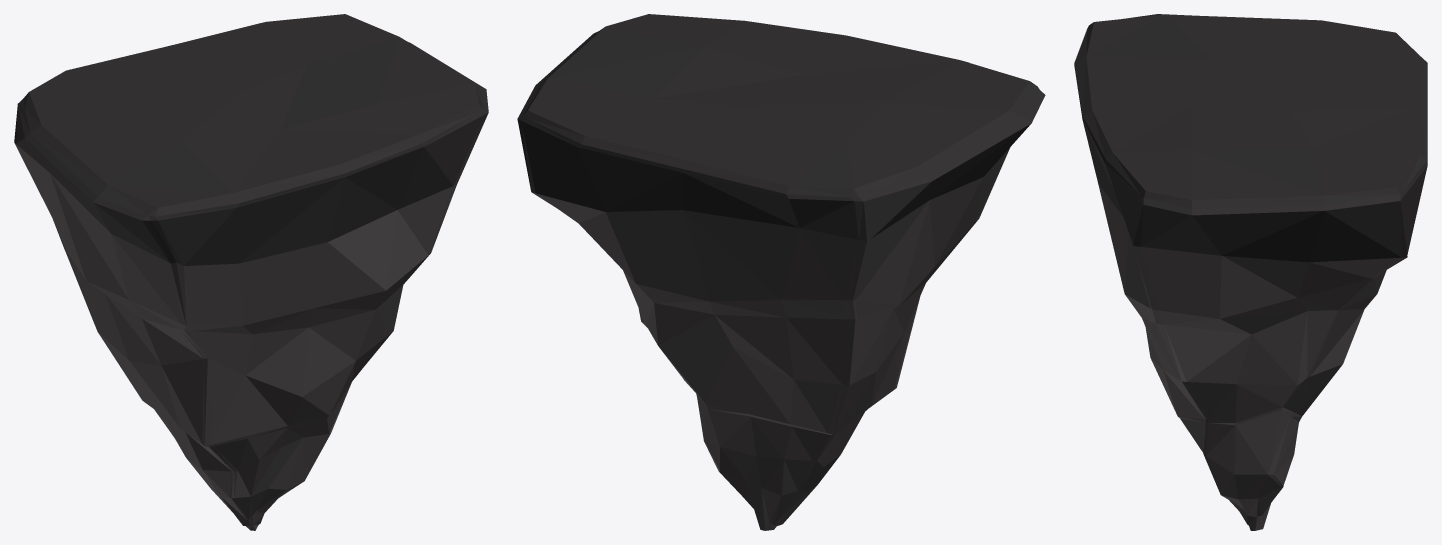
Rendered from Terrain_volcan_vf.FBX.
3 views of the same model, side by side, from view 1: azimuth 30°, elevation 25°; view 2: azimuth 150°, elevation 25°; view 3: azimuth 270°, elevation 25° (orthographic). The views are drawn at different scales.
Visible parts, largest first — view 1: Box001; view 2: Box001; view 3: Box001.
Part boxes in pixels (x1=…): Box001: x1=14, y1=14, x2=488, y2=530; Box001: x1=517, y1=14, x2=1045, y2=530; Box001: x1=1074, y1=14, x2=1427, y2=530.
Size of the model in its own units: 11602 by 11521 by 8649.
1 material, 1 textured.
